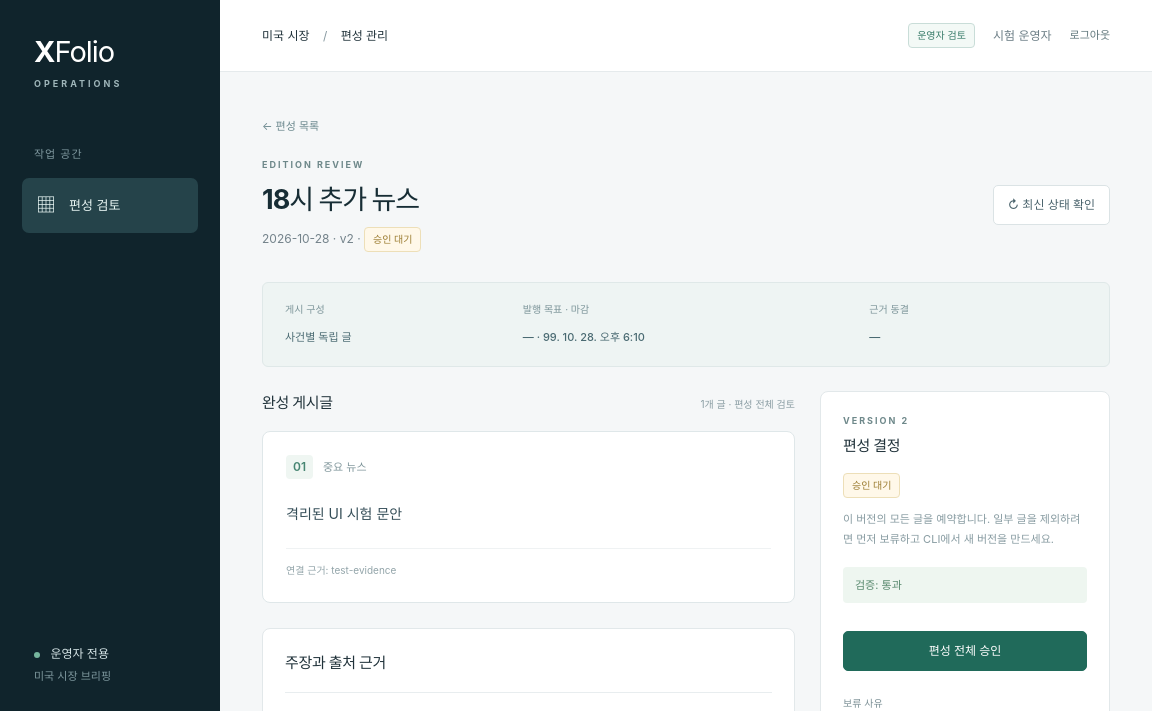
Scenario: 운영자 편성 검토 › 상세 조회 403을 권한 오류로 안내하고 이전 자료의 승인을 막는다
This screenshot has width=1152, height=711.
expect the button "편성 전체 승인" is shown: met, box [843,631,1087,671]
Step 1. Click the button "↻ 최신 상태 확인" → (1051, 205), box [993,185,1110,225]
(page scrolled)
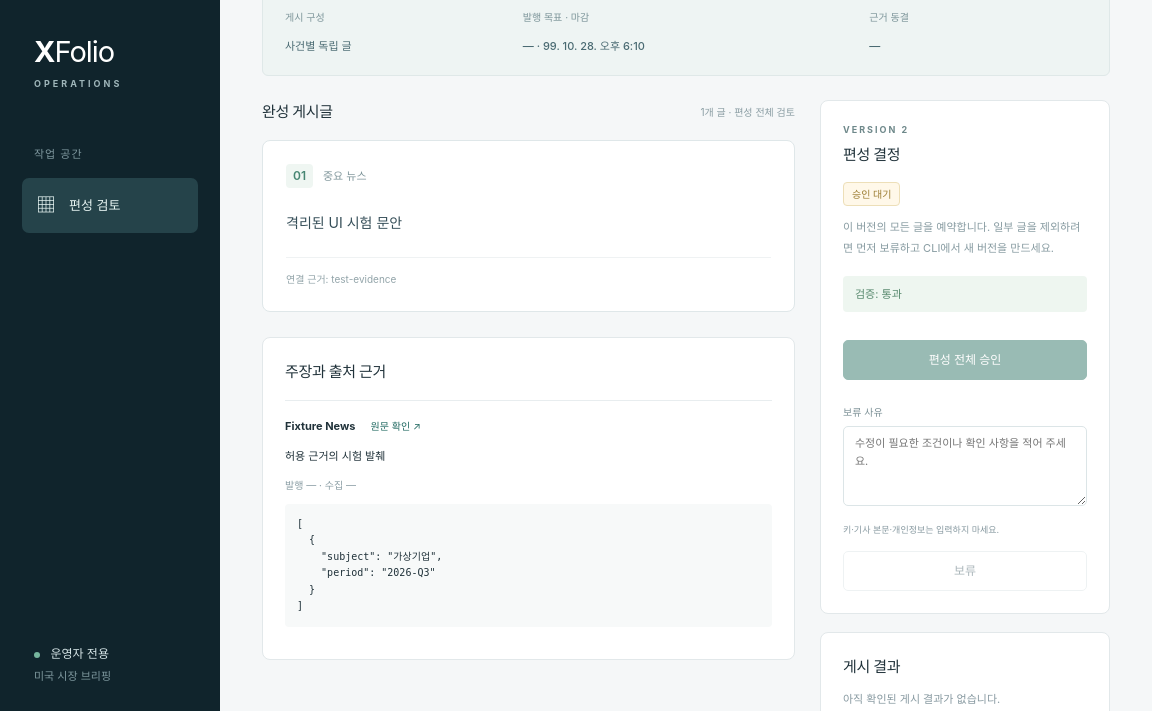
expect the button "편성 전체 승인" is disabled: met, box [843,340,1087,380]
